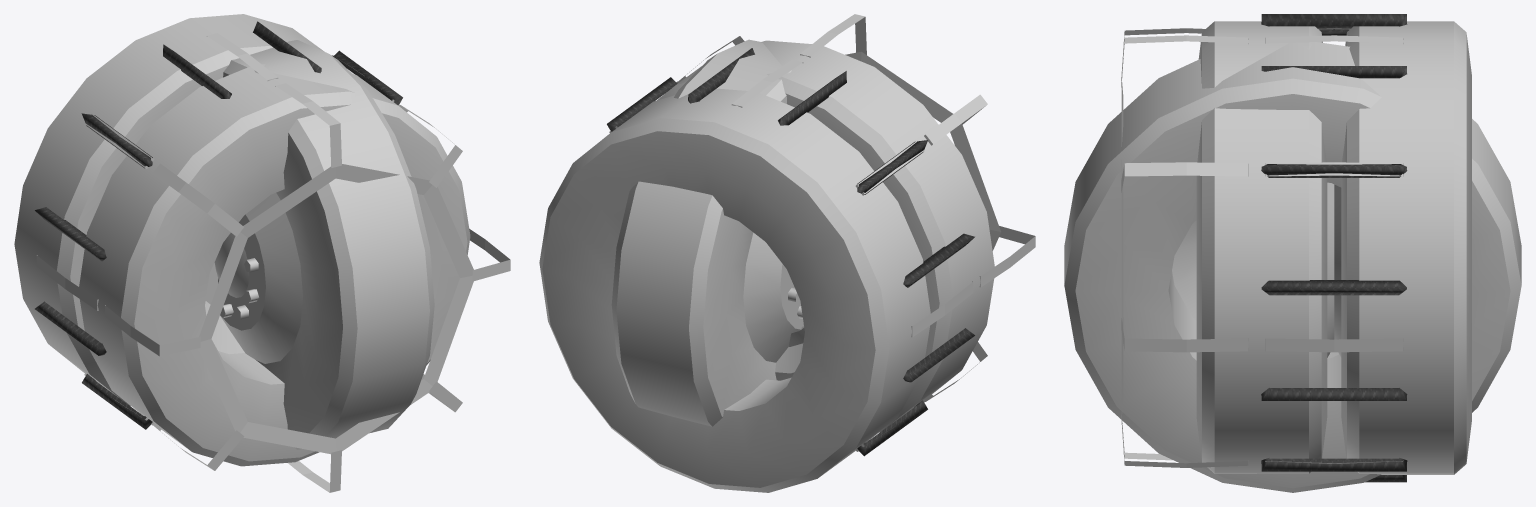
Rendered from ATAPetyarbuiltWheels.fbx.
3 renders of one model, left to right at view 1: azimuth 30°, elevation 25°; view 2: azimuth 150°, elevation 25°; view 3: azimuth 270°, elevation 25°, orthographic. The views are drawn at different scales.
Visible parts, largest first — view 1: Cylinder036, wheel, chaintiresR, chaintires_old, chaintires; view 2: Cylinder036, wheel, chaintires_old, chaintiresR, chaintires; view 3: Cylinder036, wheel, chaintires_old, chaintiresR, chaintires.
Boxes of the visible parts, <box> form: Cylinder036: <box>14,14,470,466</box>; wheel: <box>214,40,434,449</box>; chaintiresR: <box>105,83,510,492</box>; chaintires_old: <box>35,21,402,429</box>; chaintires: <box>36,33,399,425</box>; Cylinder036: <box>539,40,994,492</box>; wheel: <box>611,39,803,426</box>; chaintires_old: <box>607,48,974,456</box>; chaintiresR: <box>678,14,1035,401</box>; chaintires: <box>609,59,973,451</box>; Cylinder036: <box>1196,21,1471,474</box>; wheel: <box>1064,42,1521,492</box>; chaintires_old: <box>1261,14,1407,482</box>; chaintiresR: <box>1121,28,1248,467</box>; chaintires: <box>1265,28,1403,463</box>.
Size of the model in its own units: 30.94 by 31.32 by 31.32.
